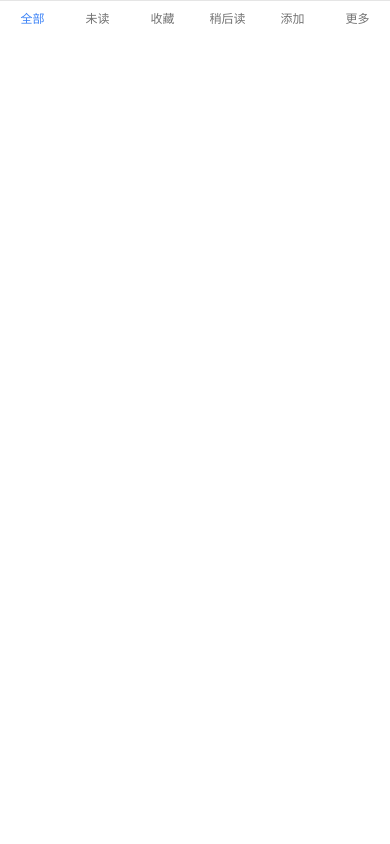
Test case: MobileNav「更多」底部弹层 › 点 [data-more] 弹出弹层,含事件/关键词/设置/快捷键四个入口按钮
The width and height of the screenshot is (390, 844).
Click the button "更多": click(358, 19) left=325, top=1, right=389, bottom=37
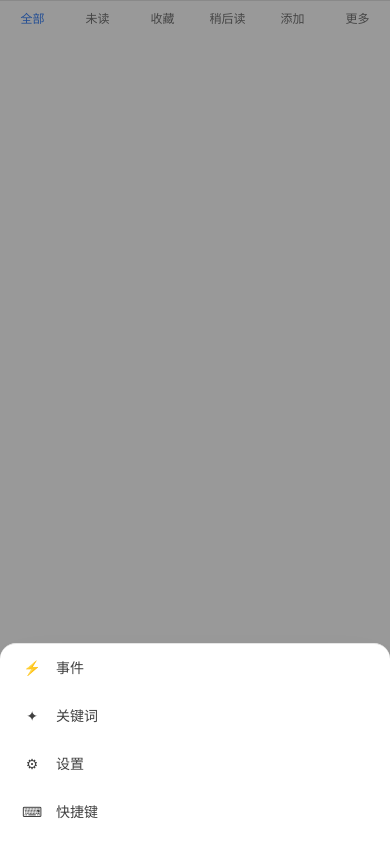
Now the element showing "⚡ 事件 ✦ 关键词 ⚙ 设置 ⌨ 快捷键" is shown
